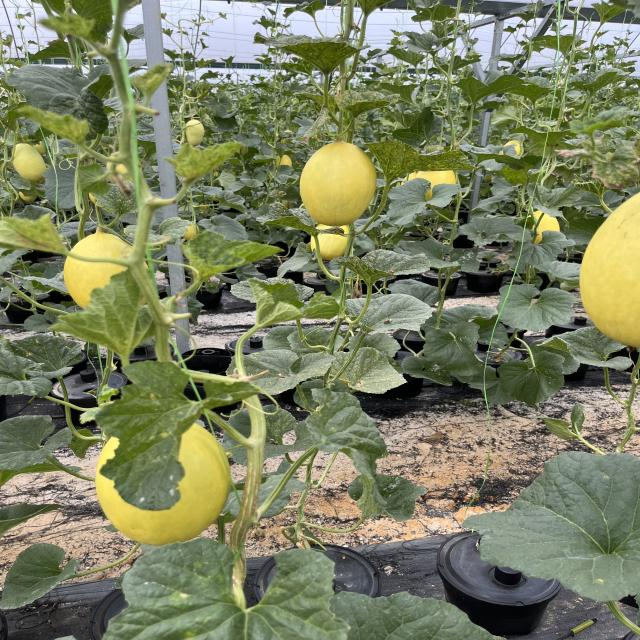CMV: (556, 327, 636, 371)
SLCV: (266, 21, 374, 70), (244, 350, 332, 403), (221, 278, 343, 316), (182, 228, 271, 272), (372, 140, 470, 177), (340, 251, 434, 288), (349, 294, 433, 334), (336, 347, 403, 383), (341, 89, 401, 118), (258, 202, 315, 232), (298, 110, 342, 144)
downy mildew: (101, 361, 204, 518), (296, 401, 387, 468), (0, 332, 82, 403), (0, 414, 76, 479)
healthy: (466, 456, 640, 589), (125, 548, 356, 640), (0, 546, 87, 611), (11, 62, 113, 116), (493, 286, 580, 338), (490, 357, 573, 408), (416, 326, 490, 380), (381, 179, 461, 225), (440, 74, 518, 107), (461, 212, 535, 244), (515, 236, 573, 268)
